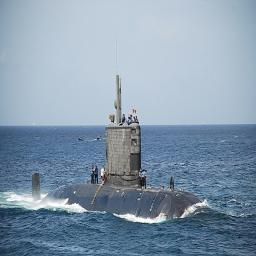submarine: (23, 76, 221, 218)
